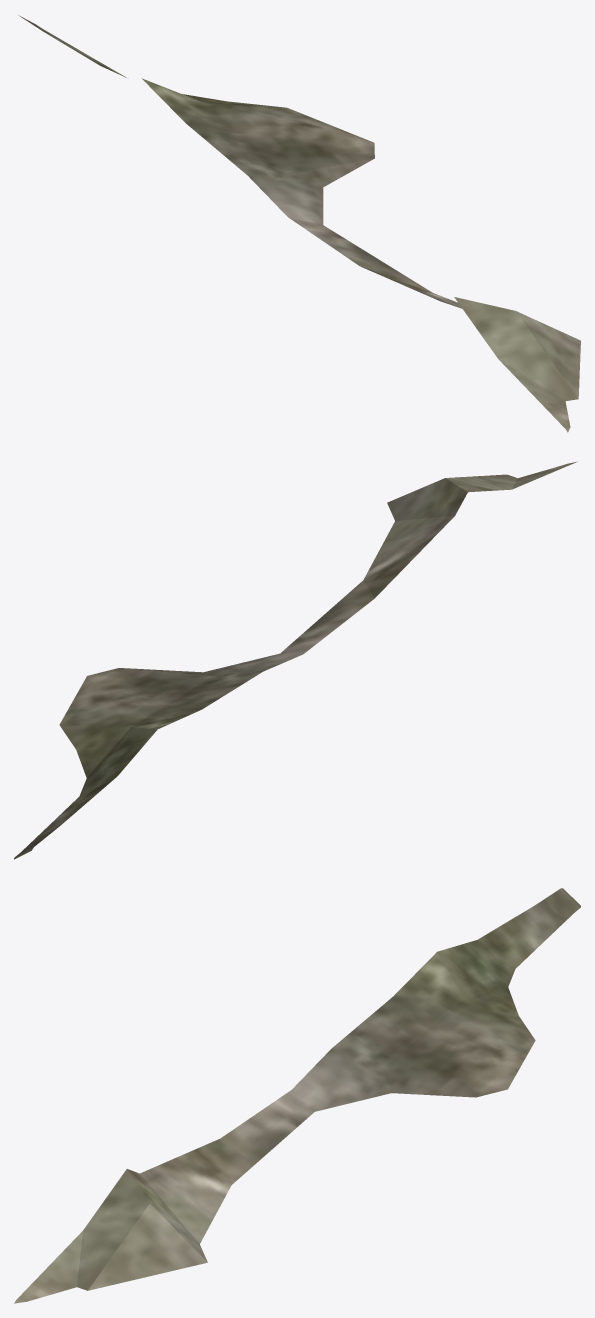
3 renders of one model, top to bottom at view 1: azimuth 30°, elevation 25°; view 2: azimuth 150°, elevation 25°; view 3: azimuth 330°, elevation 25°, orthographic.
Size of the model in its own units: 0.358 by 0.1183 by 2.26.
Materials: 1 (1 with a texture image).
